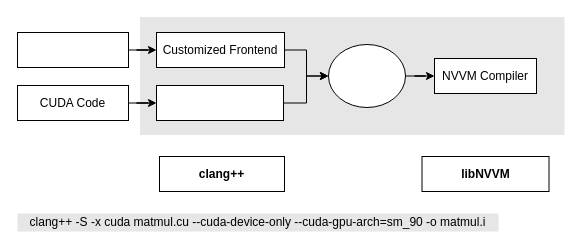
This 582x249 diagram has some shape labels left out. The shapes that lost their labels are listed below. From the top down, each one's centre as x and y in pixels, then its label:
At (x=72, y=50): "Customized Code".
At (x=367, y=76): "NVVM IR (binary/text)".
At (x=220, y=102): "CUDA C Frontend".
